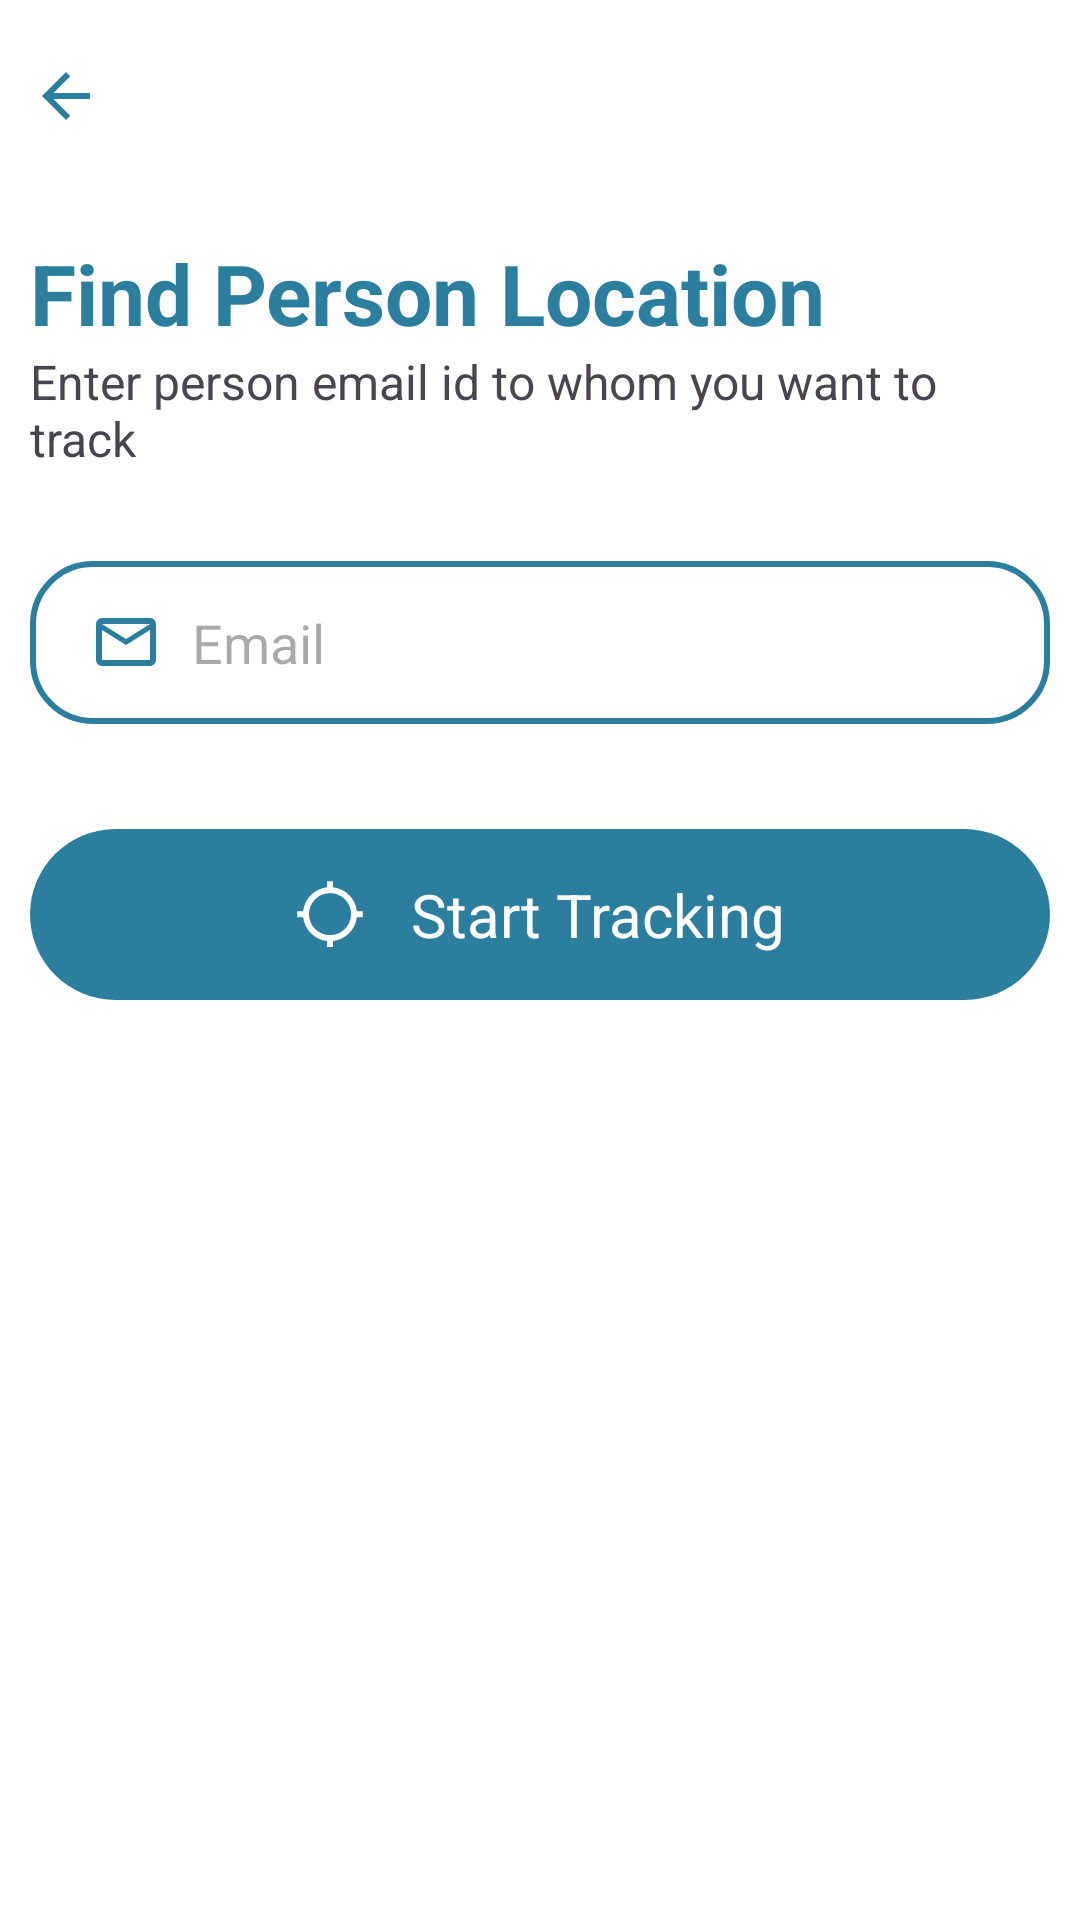

Where icons sit on this 1080px x 1920px app screen, as [left=x1, top=y1, right=x2, bottom=y2]:
arrow back: [left=42, top=72, right=90, bottom=120]
location searching: [left=297, top=881, right=363, bottom=947]
